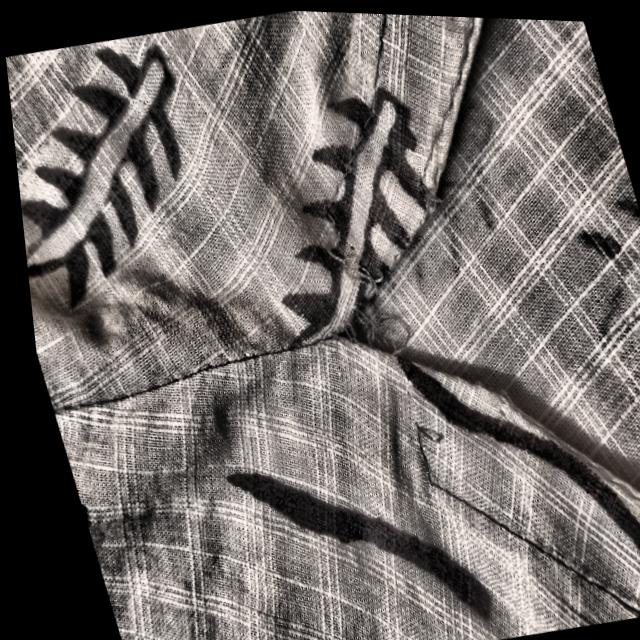Stitch: (251, 111, 449, 368), (361, 356, 509, 569)
